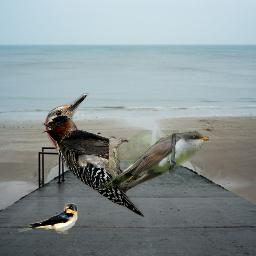Cuckoo: (96, 130, 209, 189)
Swallow: (41, 115, 109, 168), (18, 203, 78, 234)
Woodpecker: (44, 93, 152, 217)
